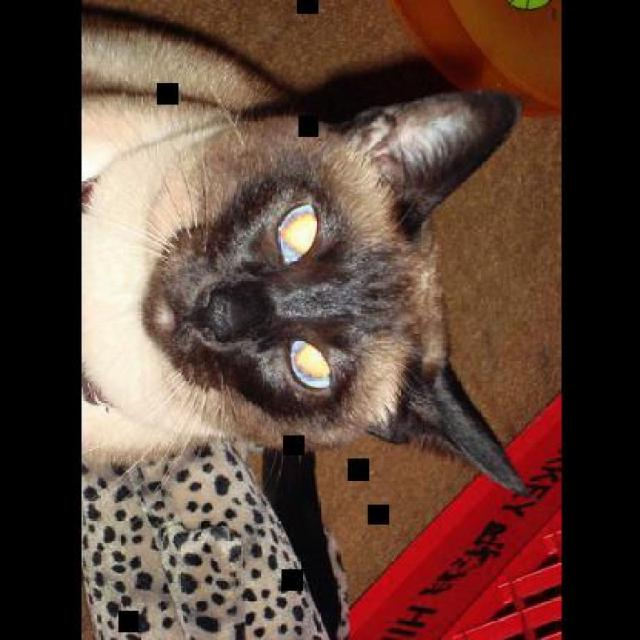unauthorized: (80, 2, 532, 500)
